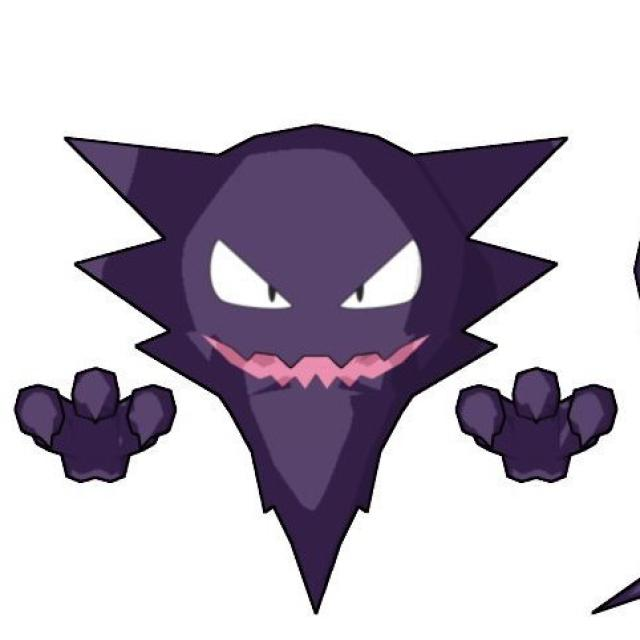Haunter: (67, 132, 580, 476)
